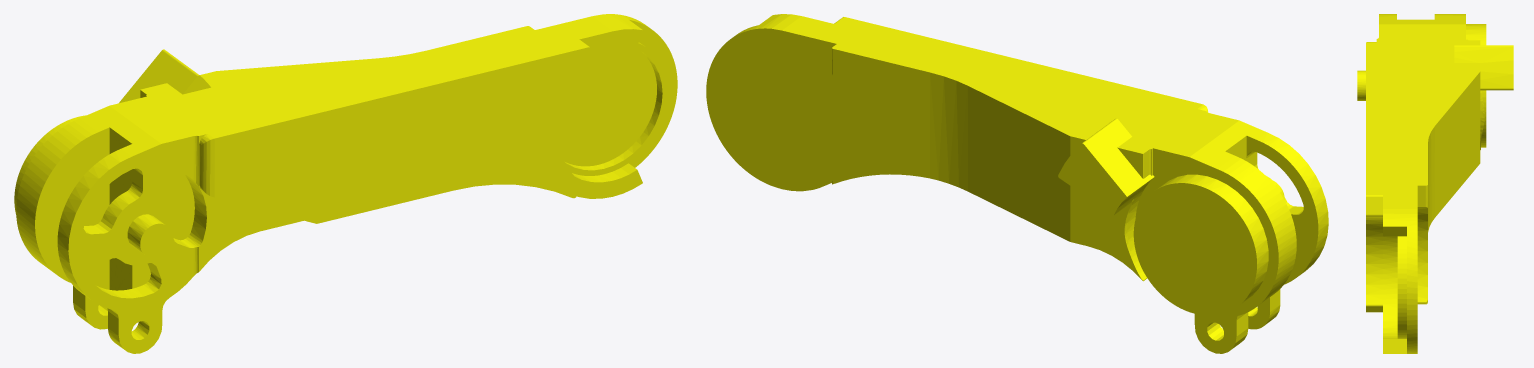
The picture shows the model from 3 angles, left to right: view 1: azimuth 30°, elevation 25°; view 2: azimuth 150°, elevation 25°; view 3: azimuth 270°, elevation 25°; orthographic projection. The views are drawn at different scales.
Visible parts, largest first — view 1: node; view 2: node; view 3: node.
Part boxes in pixels (x1,y1,x2,y2): node: (14,14,677,353); node: (706,14,1328,353); node: (1357,14,1513,353).
Bounding box in the file's own units: 1425 × 477 × 384.
